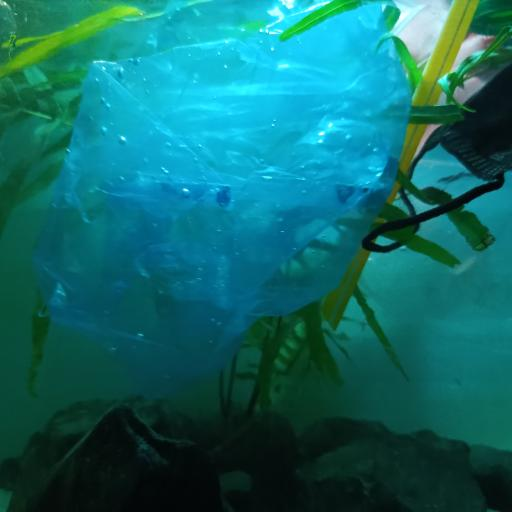mask: (362, 60, 512, 252), (393, 0, 512, 140)
plastic_bag: (27, 2, 416, 394)
plastic_straw: (320, 2, 479, 330)
